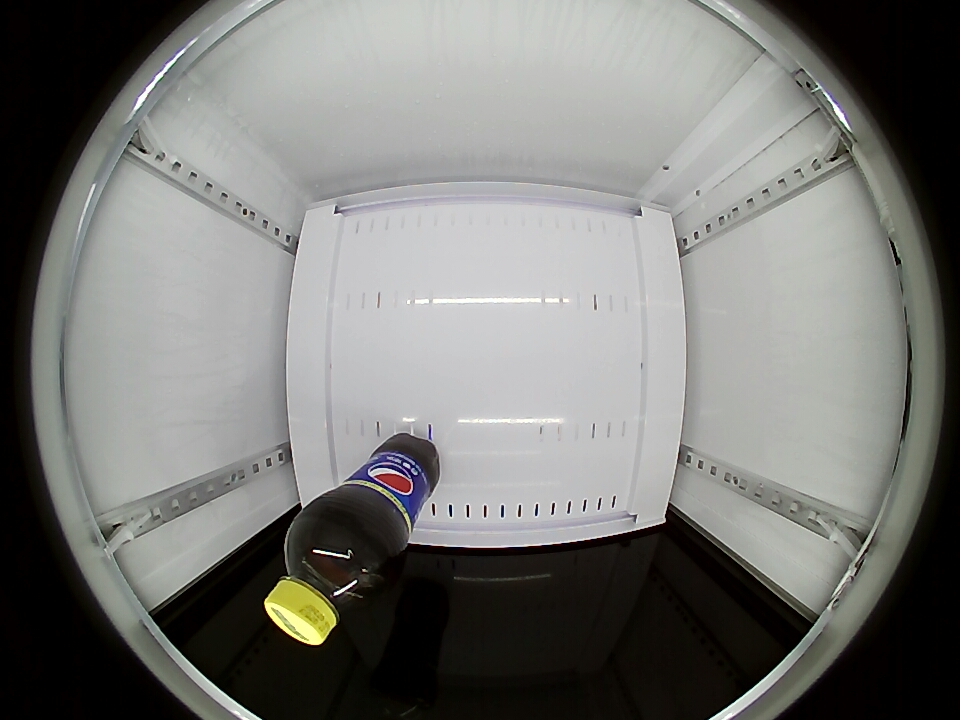baishikele: (264, 519, 390, 645)
